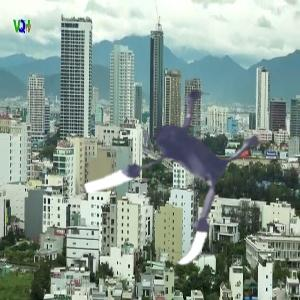drone: (74, 64, 280, 270)
